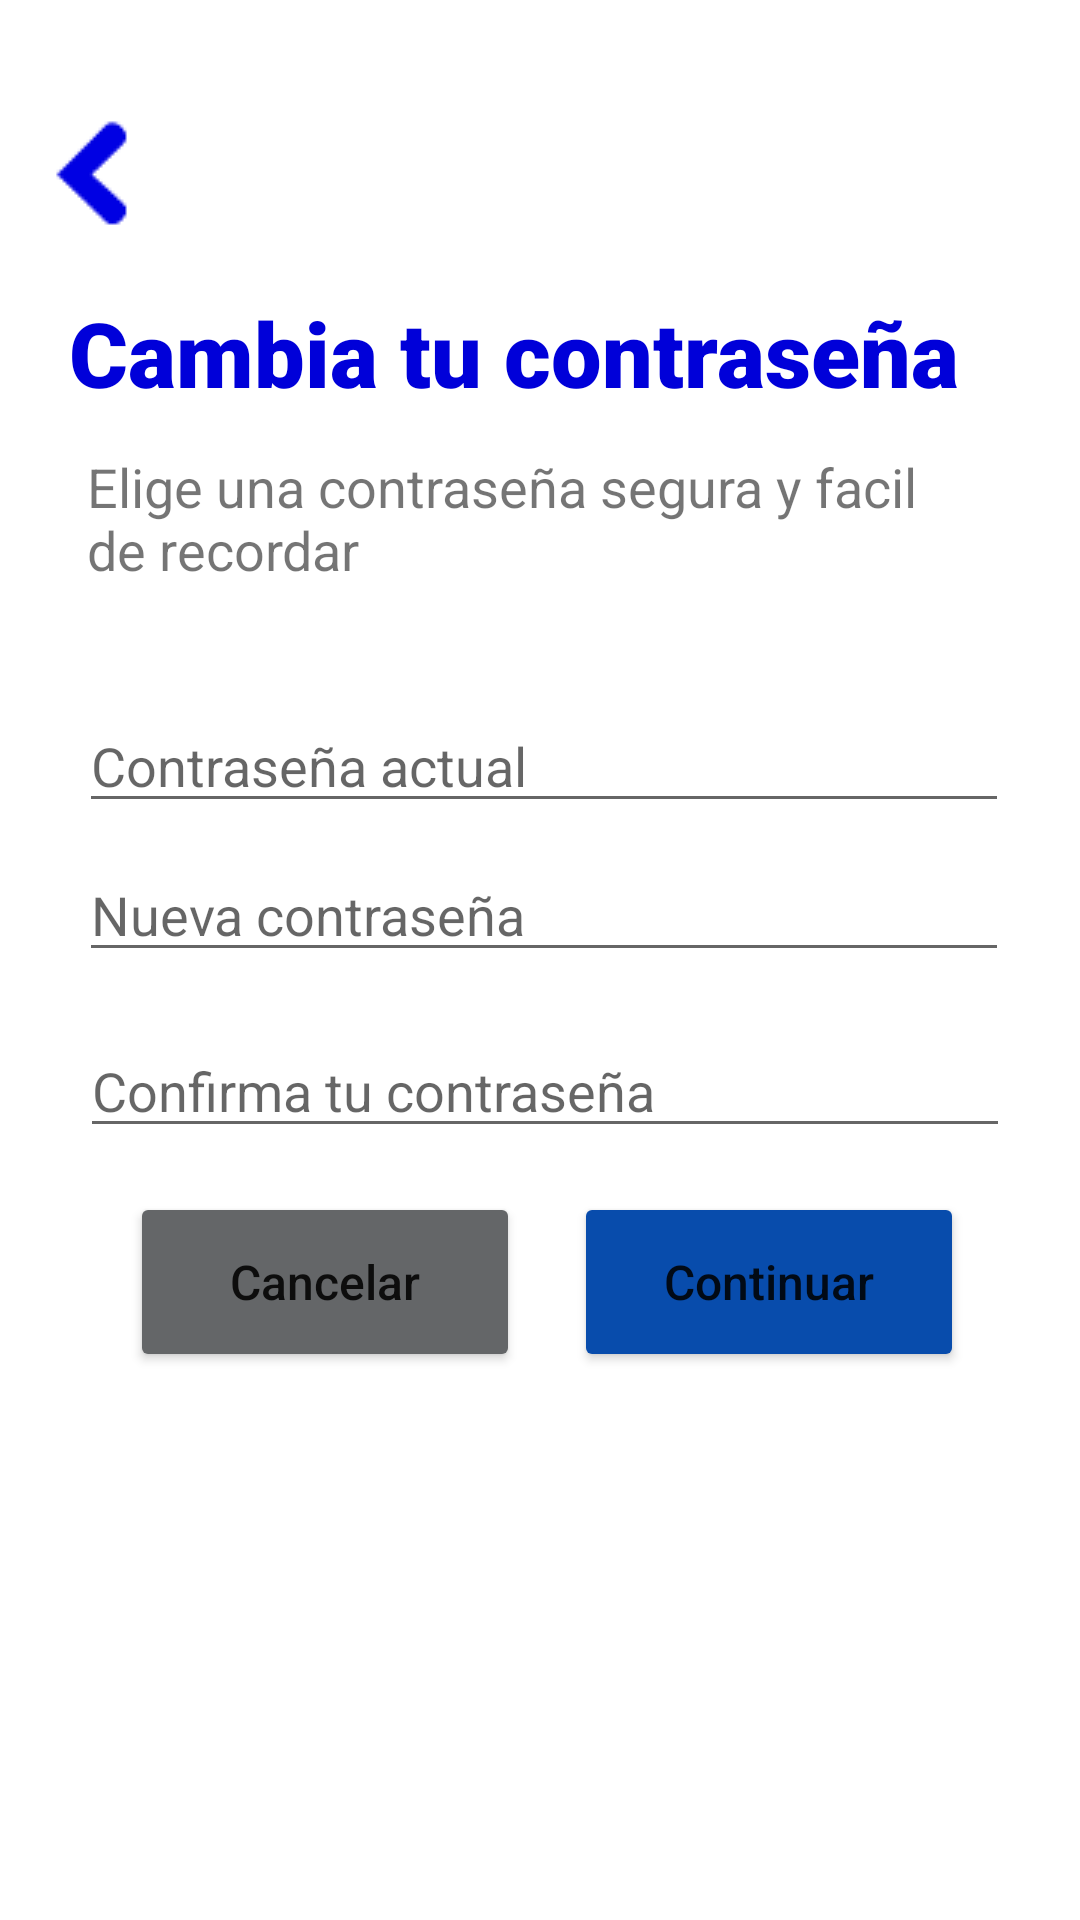

Point at icon controls on the screen. Image size 1080w x 1920h, points as point (x, y).
back: point (91, 173)
